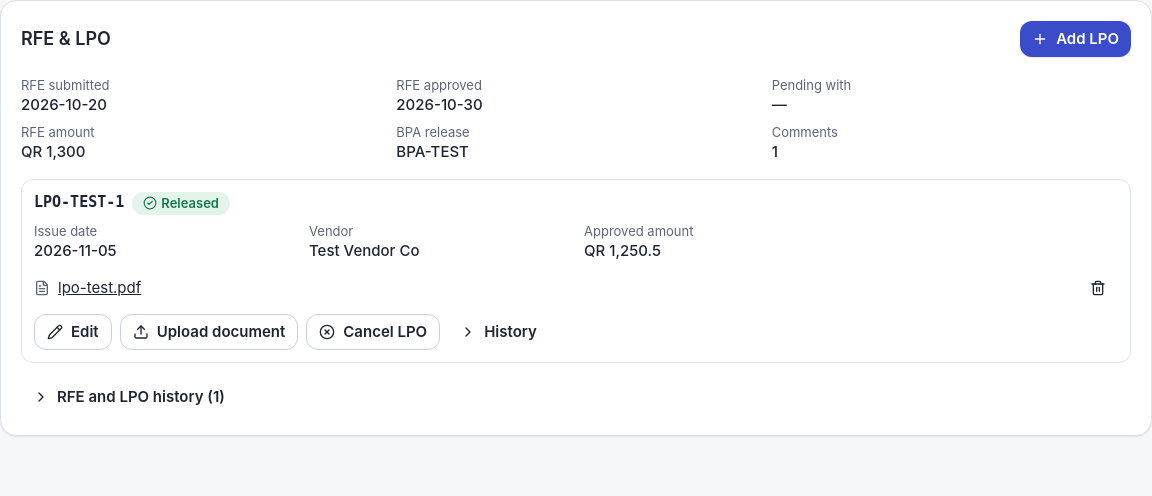
Test case: LPO on the work request page › shows the RFE facts, the LPO with its document, and Add LPO for procurement
The width and height of the screenshot is (1152, 496).
Expected: the heading "RFE & LPO" is shown, top-left (21, 28), bottom-right (111, 50)
Expected: the text "BPA-TEST" is shown, top-left (396, 142), bottom-right (469, 161)
Click the button "History".
click(498, 332)  # box top-left (448, 314), bottom-right (549, 350)
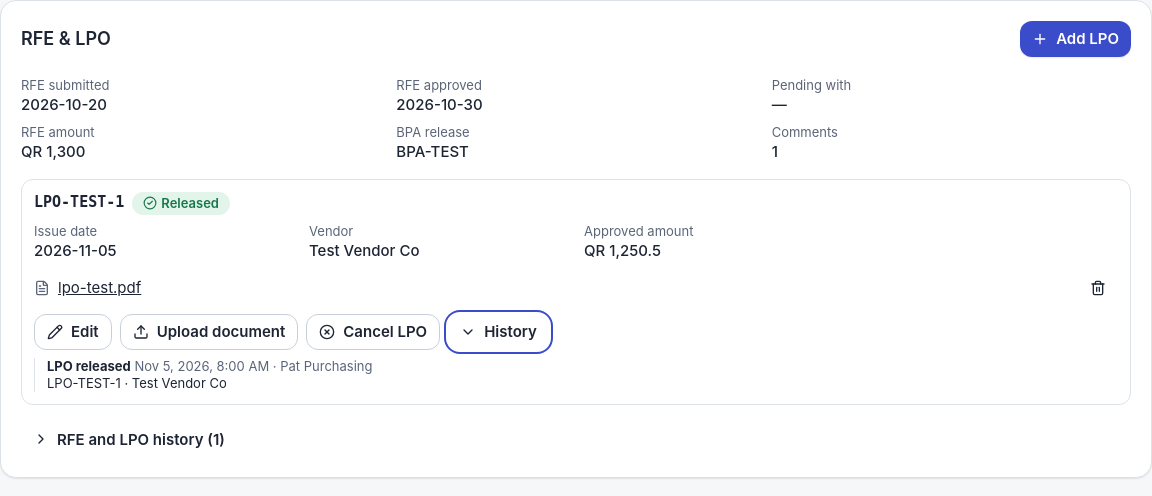
Expected: the text "LPO released" is shown, top-left (47, 358), bottom-right (131, 374)
